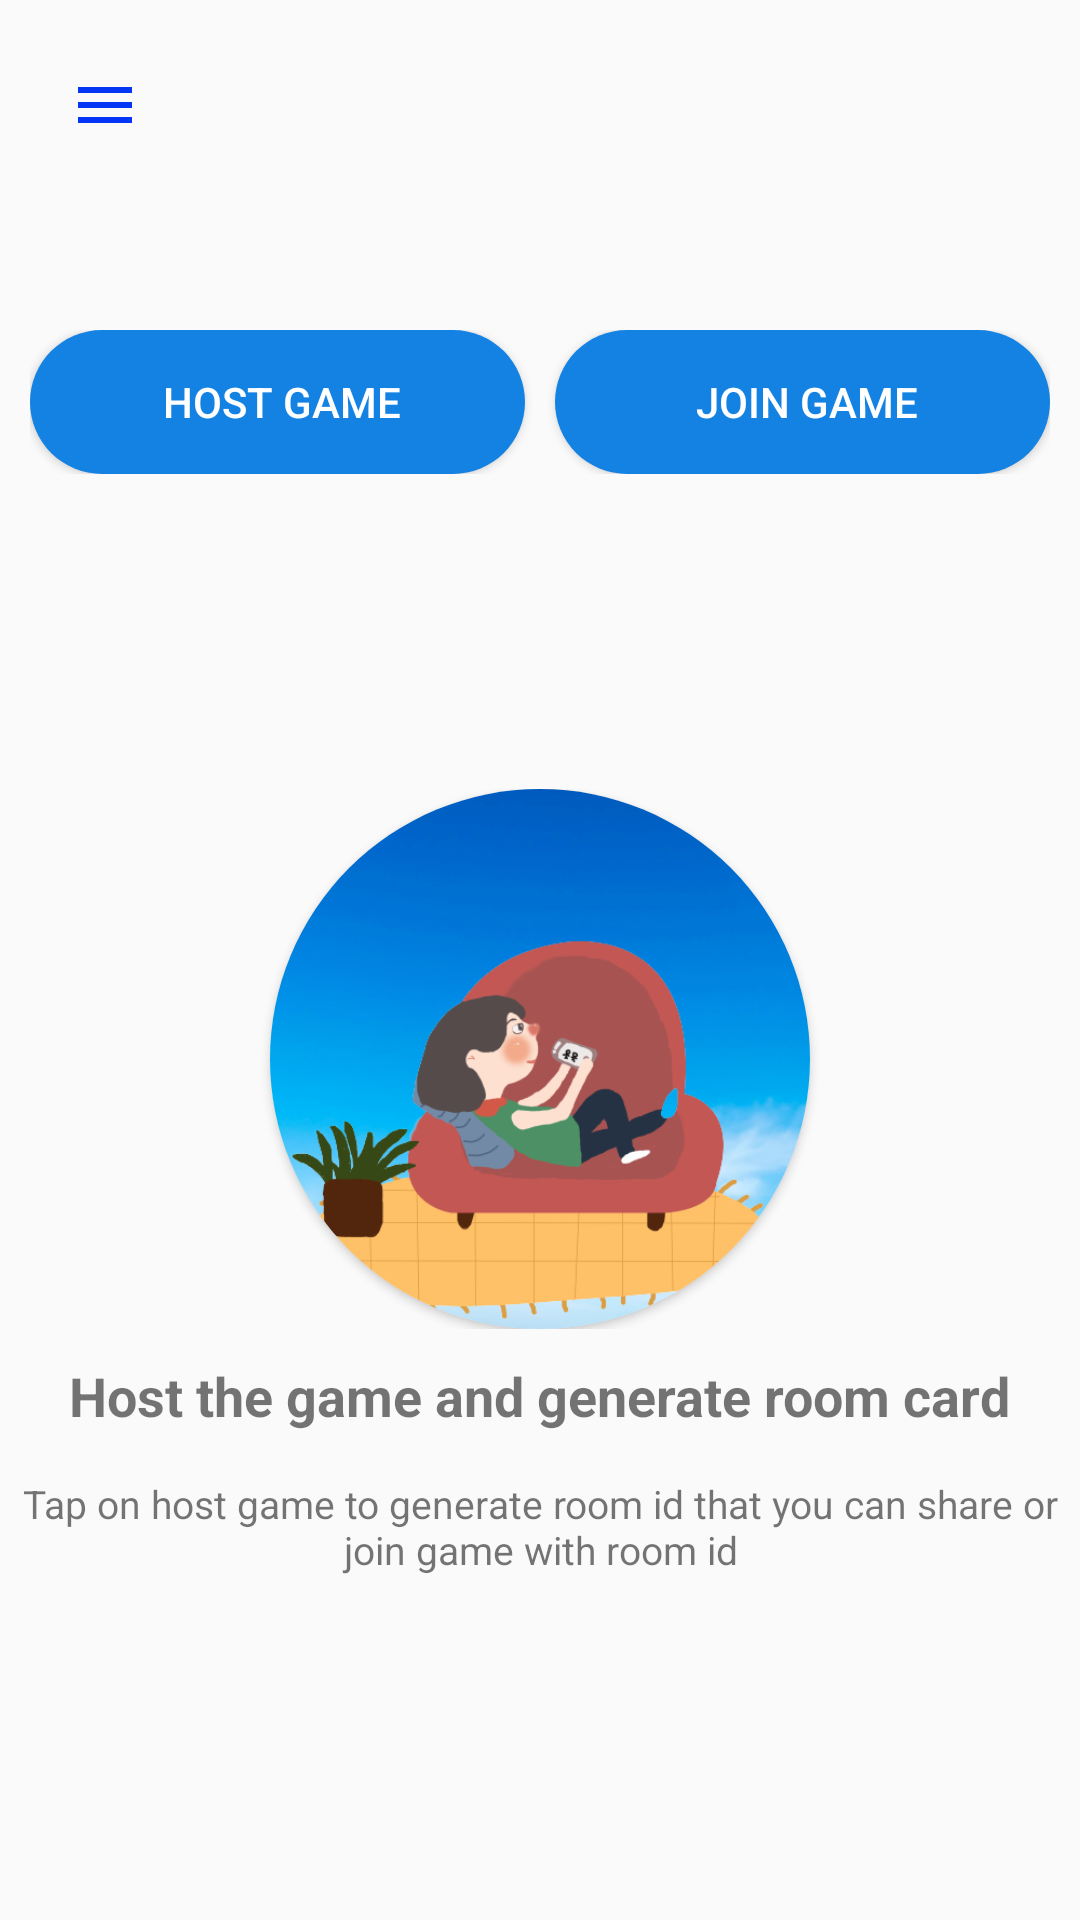

Screen size 1080 x 1920. Icon name, then its center in pixels as point (x, y):
menu: point (105, 105)
